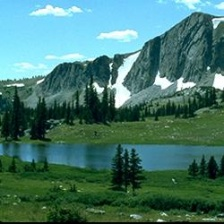neutral: (5, 24, 223, 222)
